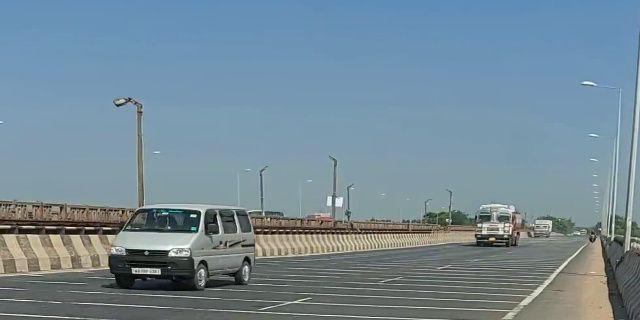Truck: (471, 199, 523, 248)
Van: (107, 200, 260, 288)
